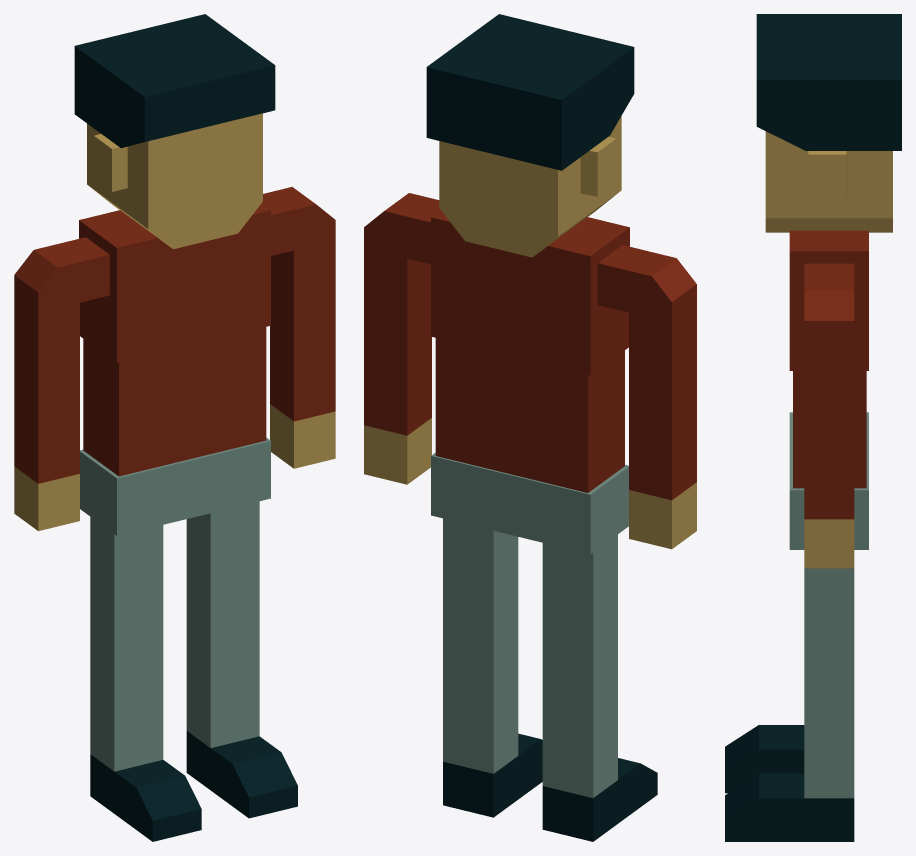
The model's file is guy.fbx.
3 views of the same model, side by side, from view 1: azimuth 30°, elevation 25°; view 2: azimuth 150°, elevation 25°; view 3: azimuth 270°, elevation 25° (orthographic). The views are drawn at different scales.
Parts seen in each view (by area): view 1: head, l_upperarm (×2), stomach, chest, r_lowerleg (×2), r_upperleg (×2), l_forearm (×2), r_shoe (×2), butt; view 2: head, stomach, chest, l_upperarm (×2), r_upperleg (×2), l_forearm (×2), r_lowerleg (×2), butt, r_shoe (×2); view 3: head, r_shoe (×2), l_upperarm, l_forearm, r_lowerleg, chest, r_upperleg, stomach, butt.
Part boxes in pixels (left/top/right/bottom): head: left=74, top=14, right=275, bottom=249; l_upperarm (×2): left=14, top=187, right=335, bottom=419; stomach: left=83, top=327, right=266, bottom=476; chest: left=79, top=203, right=270, bottom=362; r_lowerleg (×2): left=90, top=609, right=259, bottom=771; r_upperleg (×2): left=90, top=501, right=259, bottom=670; l_forearm (×2): left=14, top=320, right=335, bottom=530; r_shoe (×2): left=90, top=731, right=297, bottom=841; butt: left=80, top=437, right=270, bottom=535; head: left=426, top=14, right=634, bottom=257; stomach: left=435, top=338, right=624, bottom=492; chest: left=431, top=210, right=629, bottom=375; l_upperarm (×2): left=364, top=193, right=696, bottom=424; r_upperleg (×2): left=443, top=518, right=617, bottom=702; l_forearm (×2): left=364, top=337, right=696, bottom=549; r_lowerleg (×2): left=443, top=630, right=617, bottom=797; butt: left=431, top=452, right=628, bottom=554; r_shoe (×2): left=443, top=733, right=657, bottom=841; head: left=756, top=14, right=901, bottom=232; r_shoe (×2): left=725, top=725, right=854, bottom=841; l_upperarm: left=804, top=263, right=854, bottom=453; l_forearm: left=804, top=430, right=854, bottom=568; r_lowerleg: left=804, top=671, right=854, bottom=798; chest: left=789, top=230, right=868, bottom=370; r_upperleg: left=804, top=568, right=854, bottom=703; stomach: left=793, top=371, right=866, bottom=488; butt: left=789, top=412, right=868, bottom=549.
Bounding box in the file's own units: 238 × 559 × 118.
Materials: 1 (1 with a texture image).
